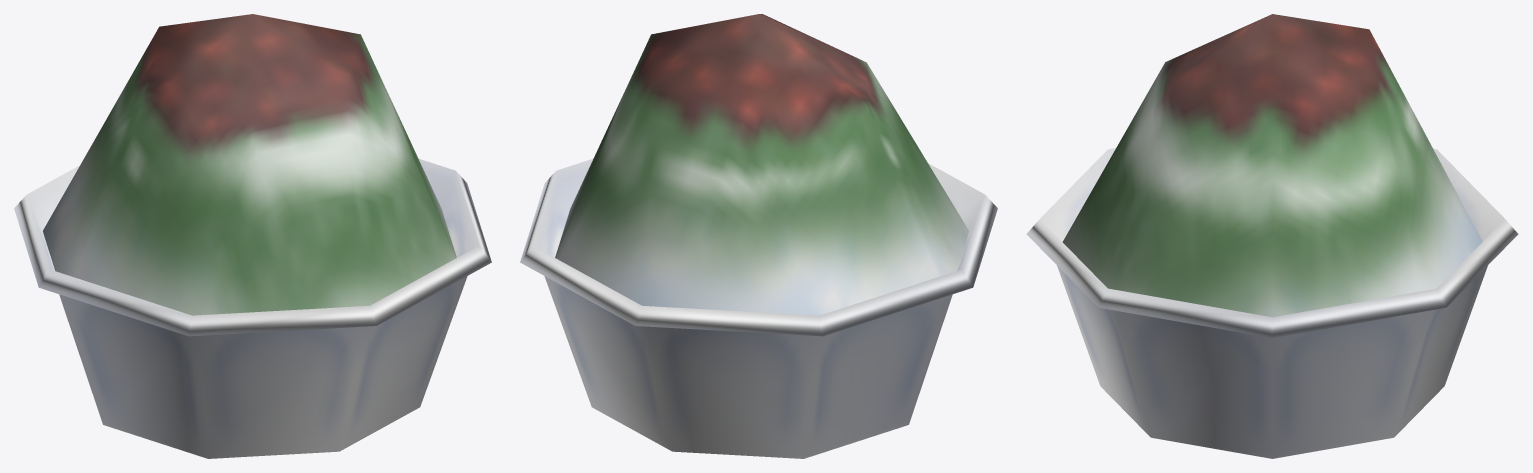
File: jsf_ShavedIce_01g.fbx
3 views of the same model, side by side, from view 1: azimuth 30°, elevation 25°; view 2: azimuth 150°, elevation 25°; view 3: azimuth 270°, elevation 25° (orthographic).
Visible parts, largest first — view 1: jsf_ShavedIce_01g; view 2: jsf_ShavedIce_01g; view 3: jsf_ShavedIce_01g.
Boxes of the visible parts, x1,y1,x2,y2 form: jsf_ShavedIce_01g: (14, 14, 491, 458); jsf_ShavedIce_01g: (520, 14, 997, 458); jsf_ShavedIce_01g: (1026, 14, 1518, 458).
Bounding box in the file's own units: 12 × 10.01 × 12.
